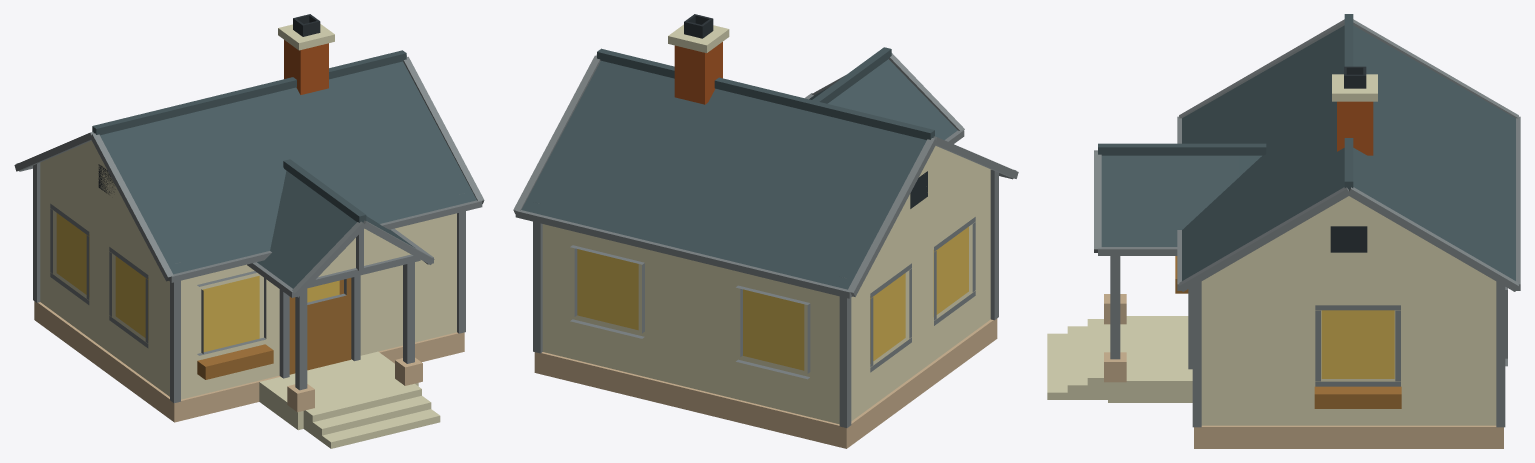
Rendered from House_A_Lv1_LOD2.fbx.
3 renders of one model, left to right at view 1: azimuth 30°, elevation 25°; view 2: azimuth 150°, elevation 25°; view 3: azimuth 270°, elevation 25°, orthographic. The views are drawn at different scales.
Parts seen in each view (by area): view 1: House_A_Lv1_Low; view 2: House_A_Lv1_Low; view 3: House_A_Lv1_Low.
Boxes of the visible parts, x1,y1,x2,y2 form: House_A_Lv1_Low: [14, 14, 484, 448]; House_A_Lv1_Low: [513, 14, 1018, 448]; House_A_Lv1_Low: [1047, 14, 1520, 448].
Size of the model in its own units: 10.03 by 9.04 by 11.69.
